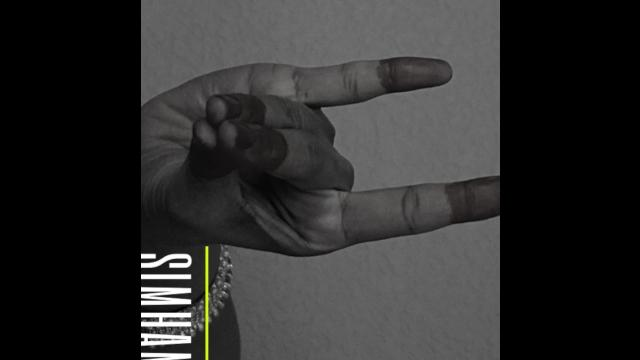sinhamukh: (140, 36, 500, 274)
